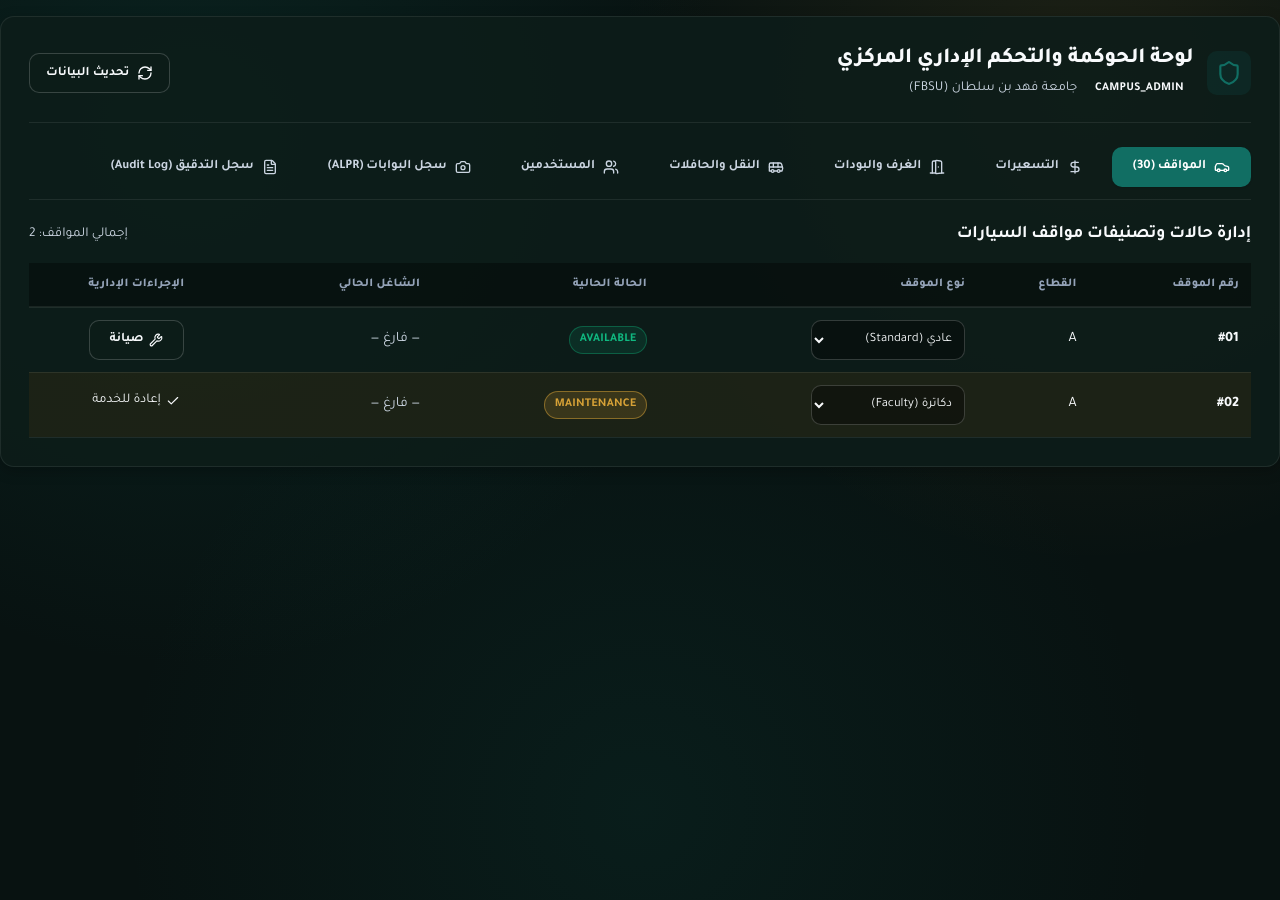
Test: AdminDashboard Component Tests › toggles spot maintenance status and updates UI feedback banner
Expected: the text "#01" is shown, [1089,307,1251,372]
Click the button "صيانة" at (136, 340), box [88,320,184,360]
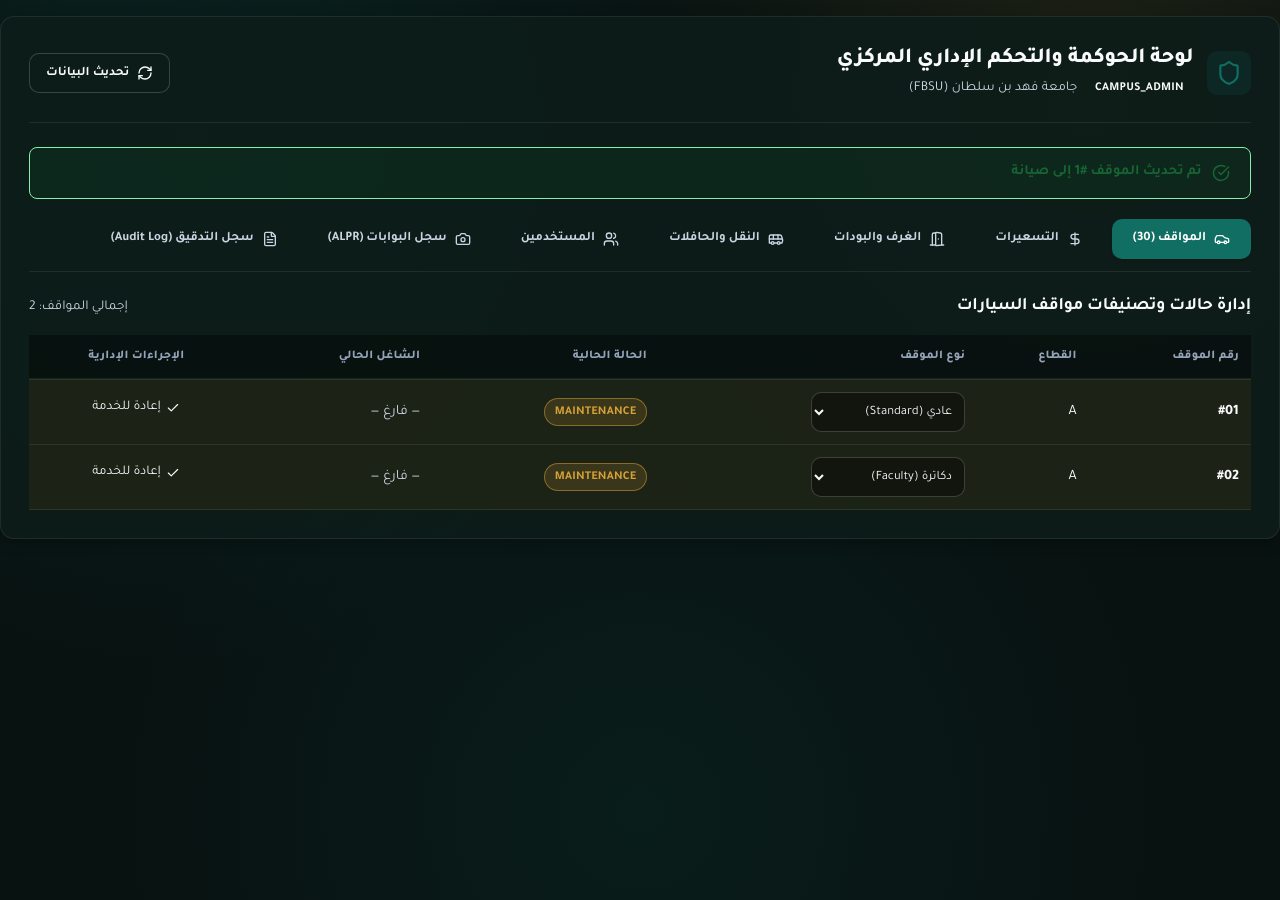
Now the element with test id "admin-feedback-banner" is shown, box [29,147,1251,199]
